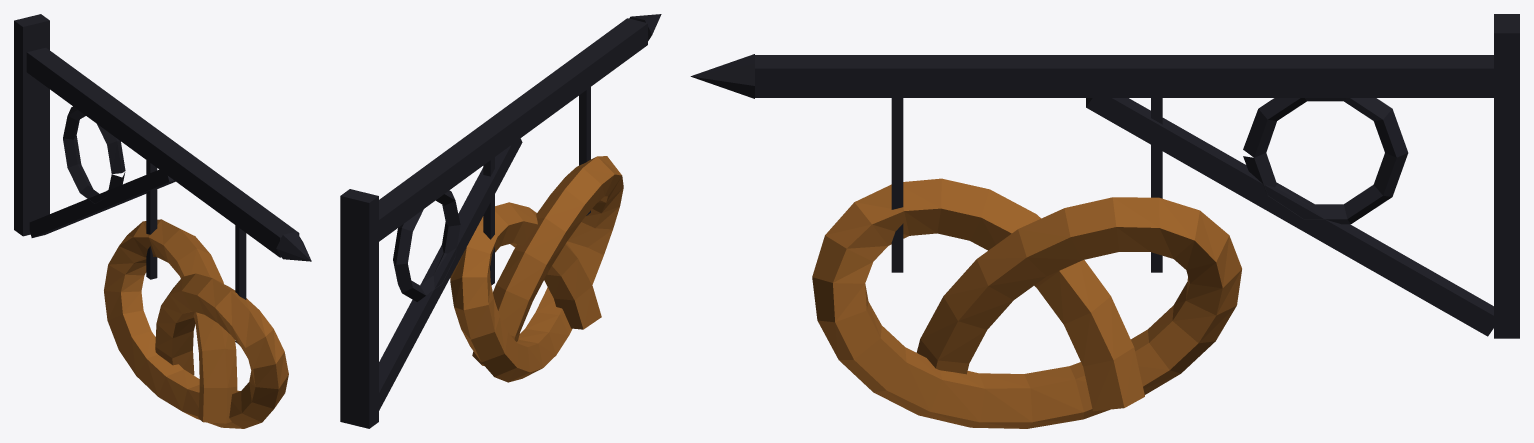
Rendered from shop-sign-baker.glb.
The picture shows the model from 3 angles, left to right: view 1: azimuth 30°, elevation 25°; view 2: azimuth 150°, elevation 25°; view 3: azimuth 270°, elevation 25°; orthographic projection. The views are drawn at different scales.
Visible parts, largest first — view 1: shop-sign-baker; view 2: shop-sign-baker; view 3: shop-sign-baker.
Boxes of the visible parts, <box> form: shop-sign-baker: <box>14,14,311,428</box>; shop-sign-baker: <box>340,14,661,428</box>; shop-sign-baker: <box>690,14,1519,428</box>.
Bounding box in the file's own units: 0.1538 × 0.69 × 1.28.
